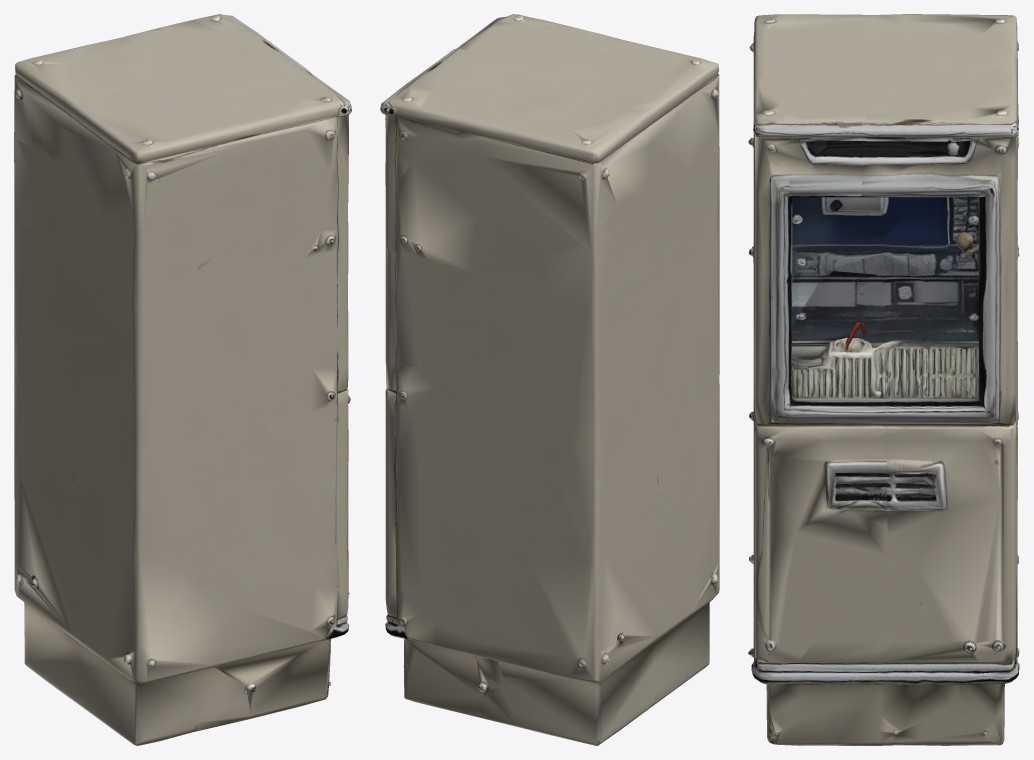
Rendered from bus-farebox.glb.
The picture shows the model from 3 angles, left to right: view 1: azimuth 30°, elevation 25°; view 2: azimuth 150°, elevation 25°; view 3: azimuth 270°, elevation 25°; orthographic projection. The views are drawn at different scales.
Visible parts, largest first — view 1: tripo_node_0c9b4f7f-173a-4377-ae57-11776ebb523c; view 2: tripo_node_0c9b4f7f-173a-4377-ae57-11776ebb523c; view 3: tripo_node_0c9b4f7f-173a-4377-ae57-11776ebb523c.
Boxes of the visible parts, x1,y1,x2,y2 form: tripo_node_0c9b4f7f-173a-4377-ae57-11776ebb523c: [14, 14, 351, 745]; tripo_node_0c9b4f7f-173a-4377-ae57-11776ebb523c: [380, 14, 719, 745]; tripo_node_0c9b4f7f-173a-4377-ae57-11776ebb523c: [748, 14, 1019, 745].
Bounding box in the file's own units: 0.3914 × 0.9999 × 0.3873.
Materials: 1 (1 with a texture image).
